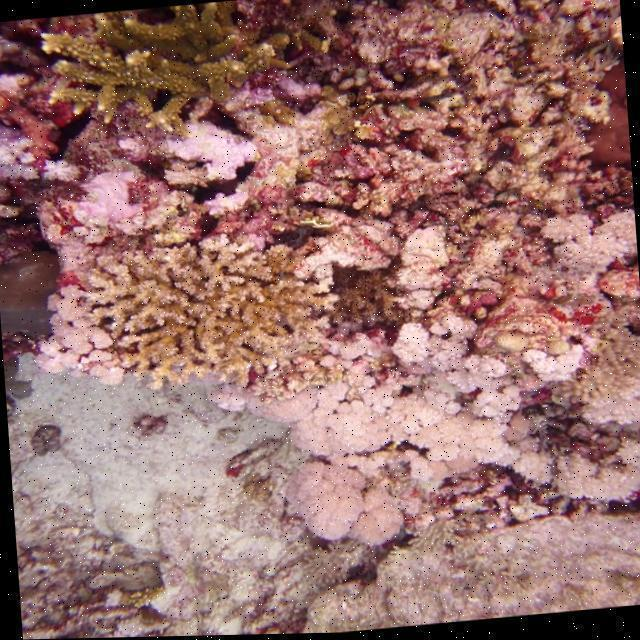Bleached Coral: (128, 103, 270, 228), (30, 146, 167, 264), (32, 293, 129, 395)
Healthy Coral: (35, 11, 291, 90)
